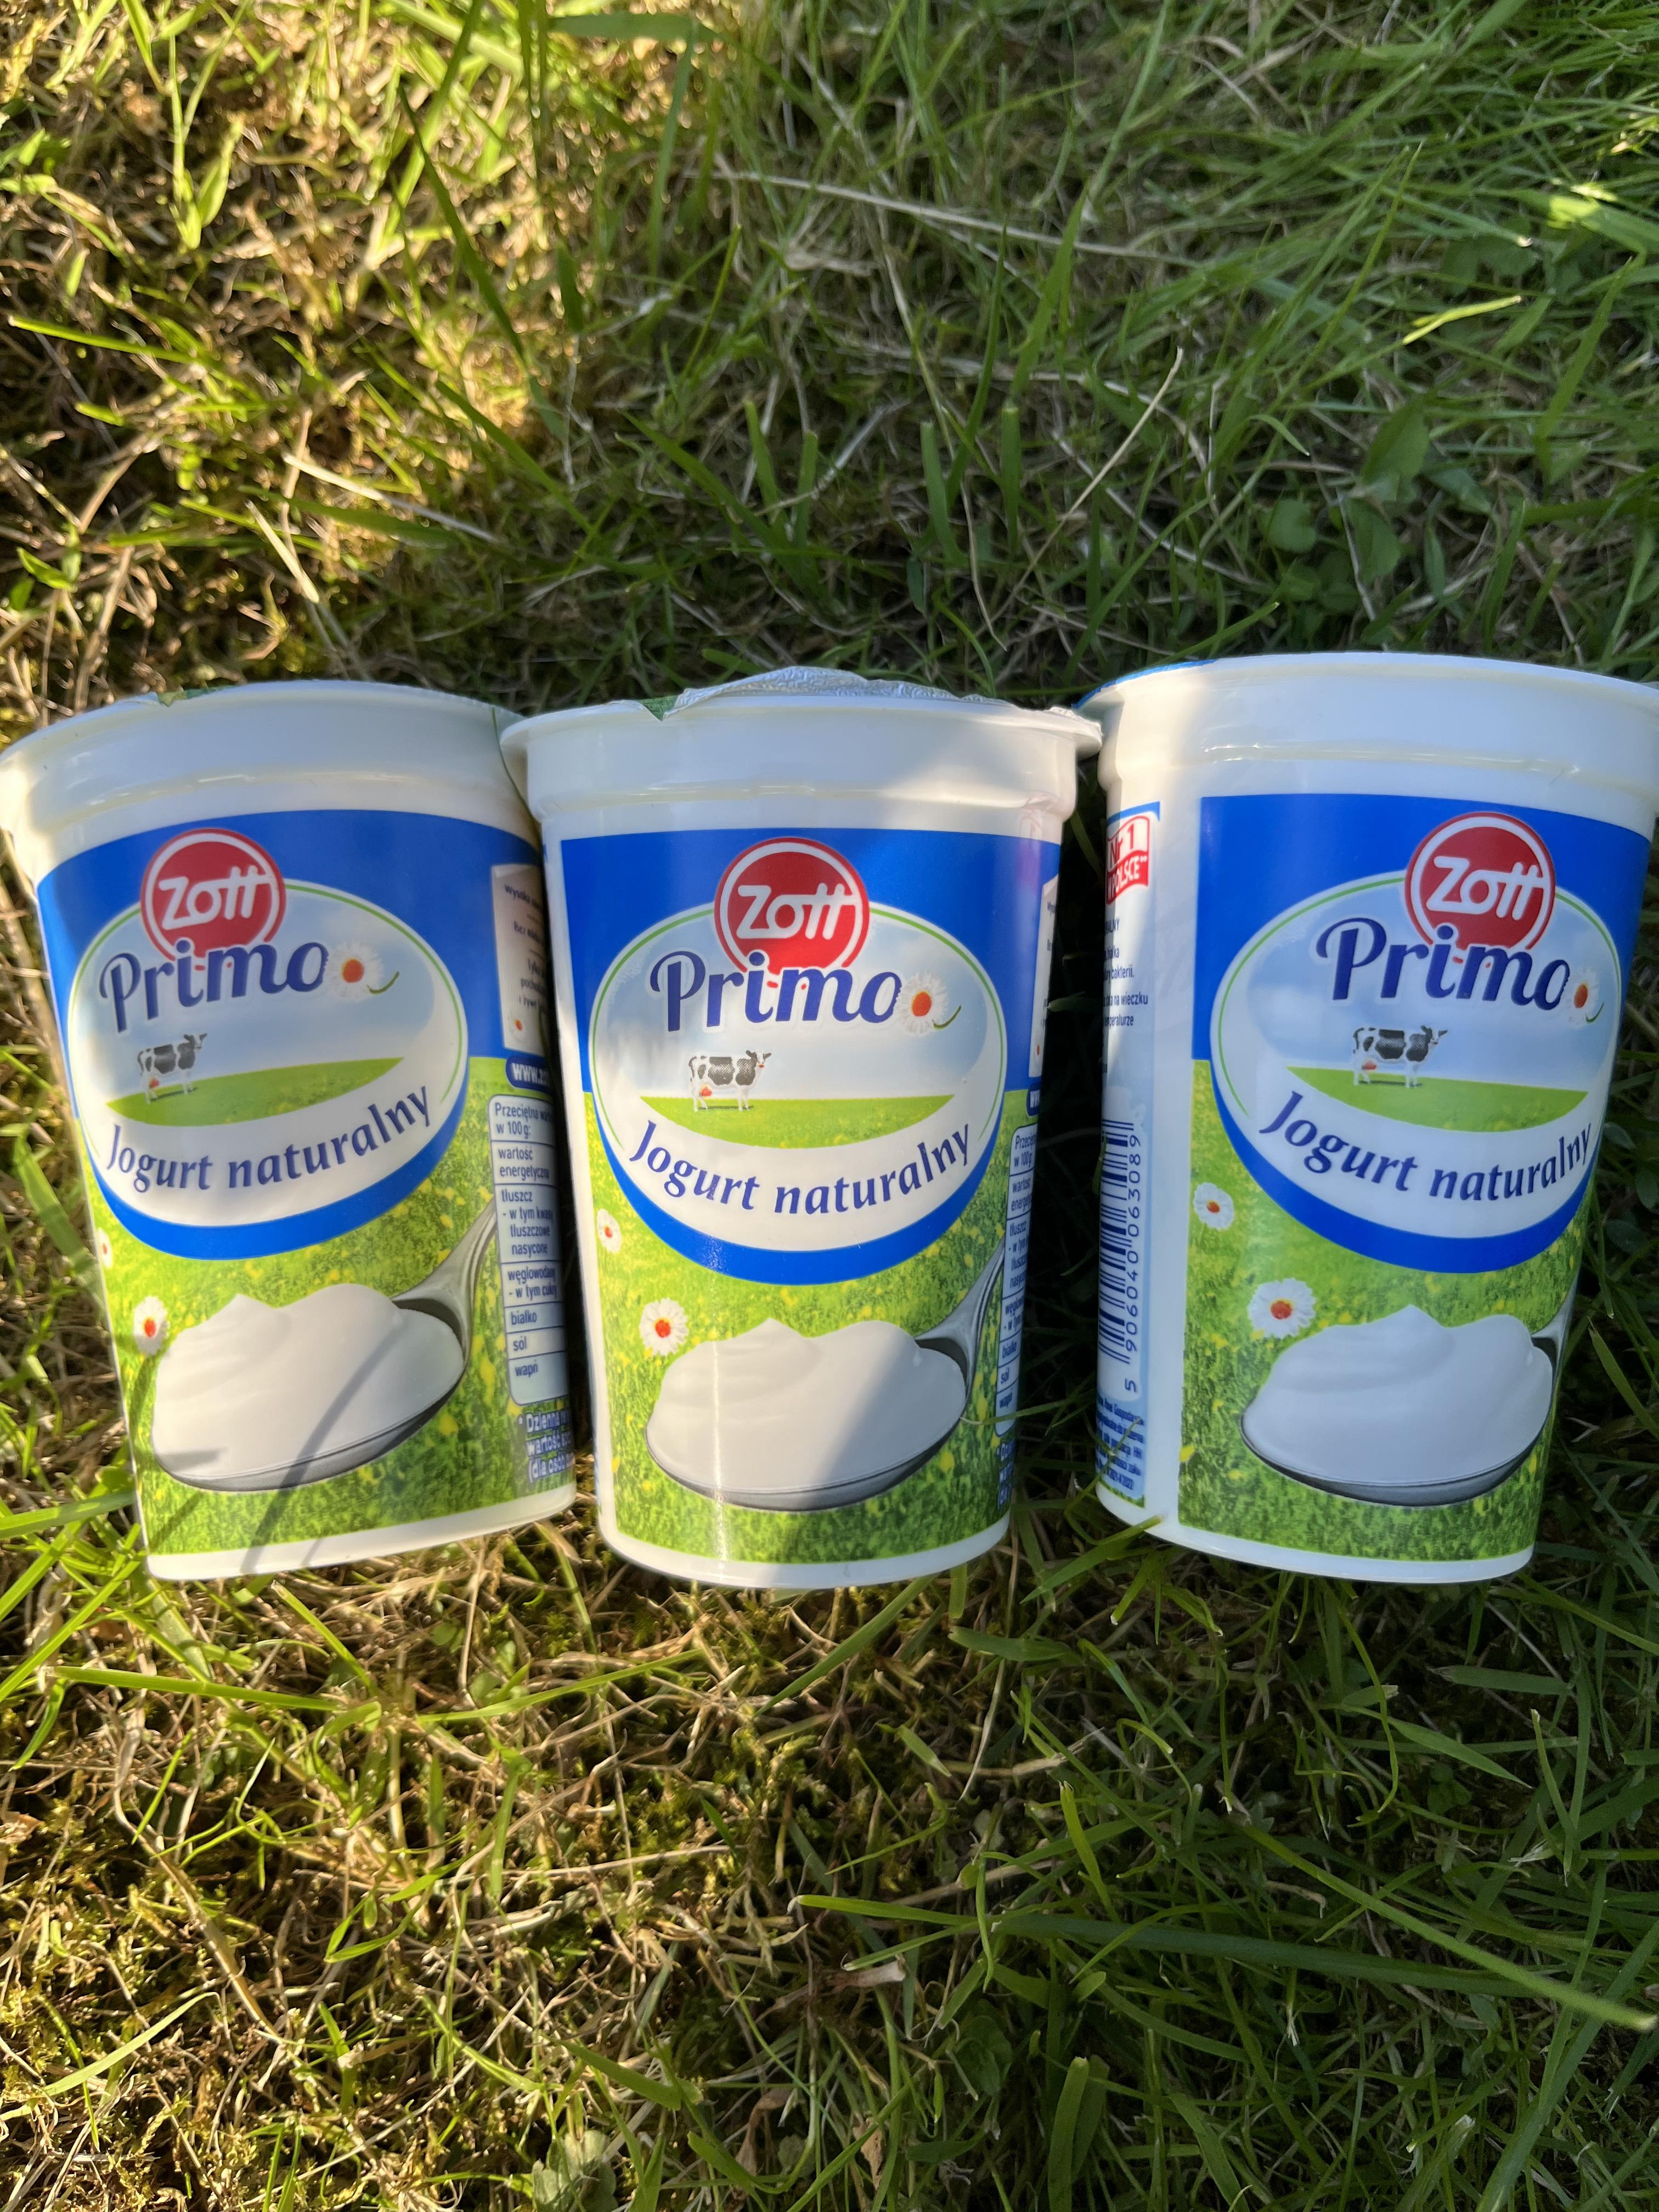Yogurt: (544, 683, 1070, 1583), (51, 693, 582, 1564), (1105, 655, 1586, 1583)
